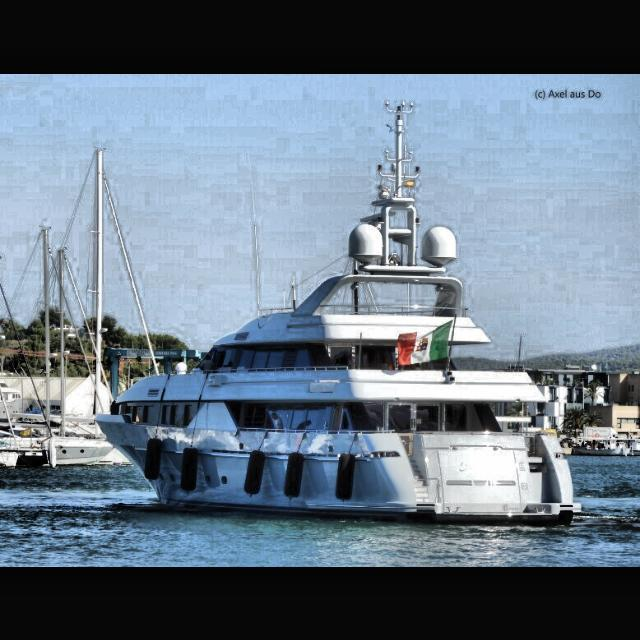yacht: (92, 186, 584, 528)
